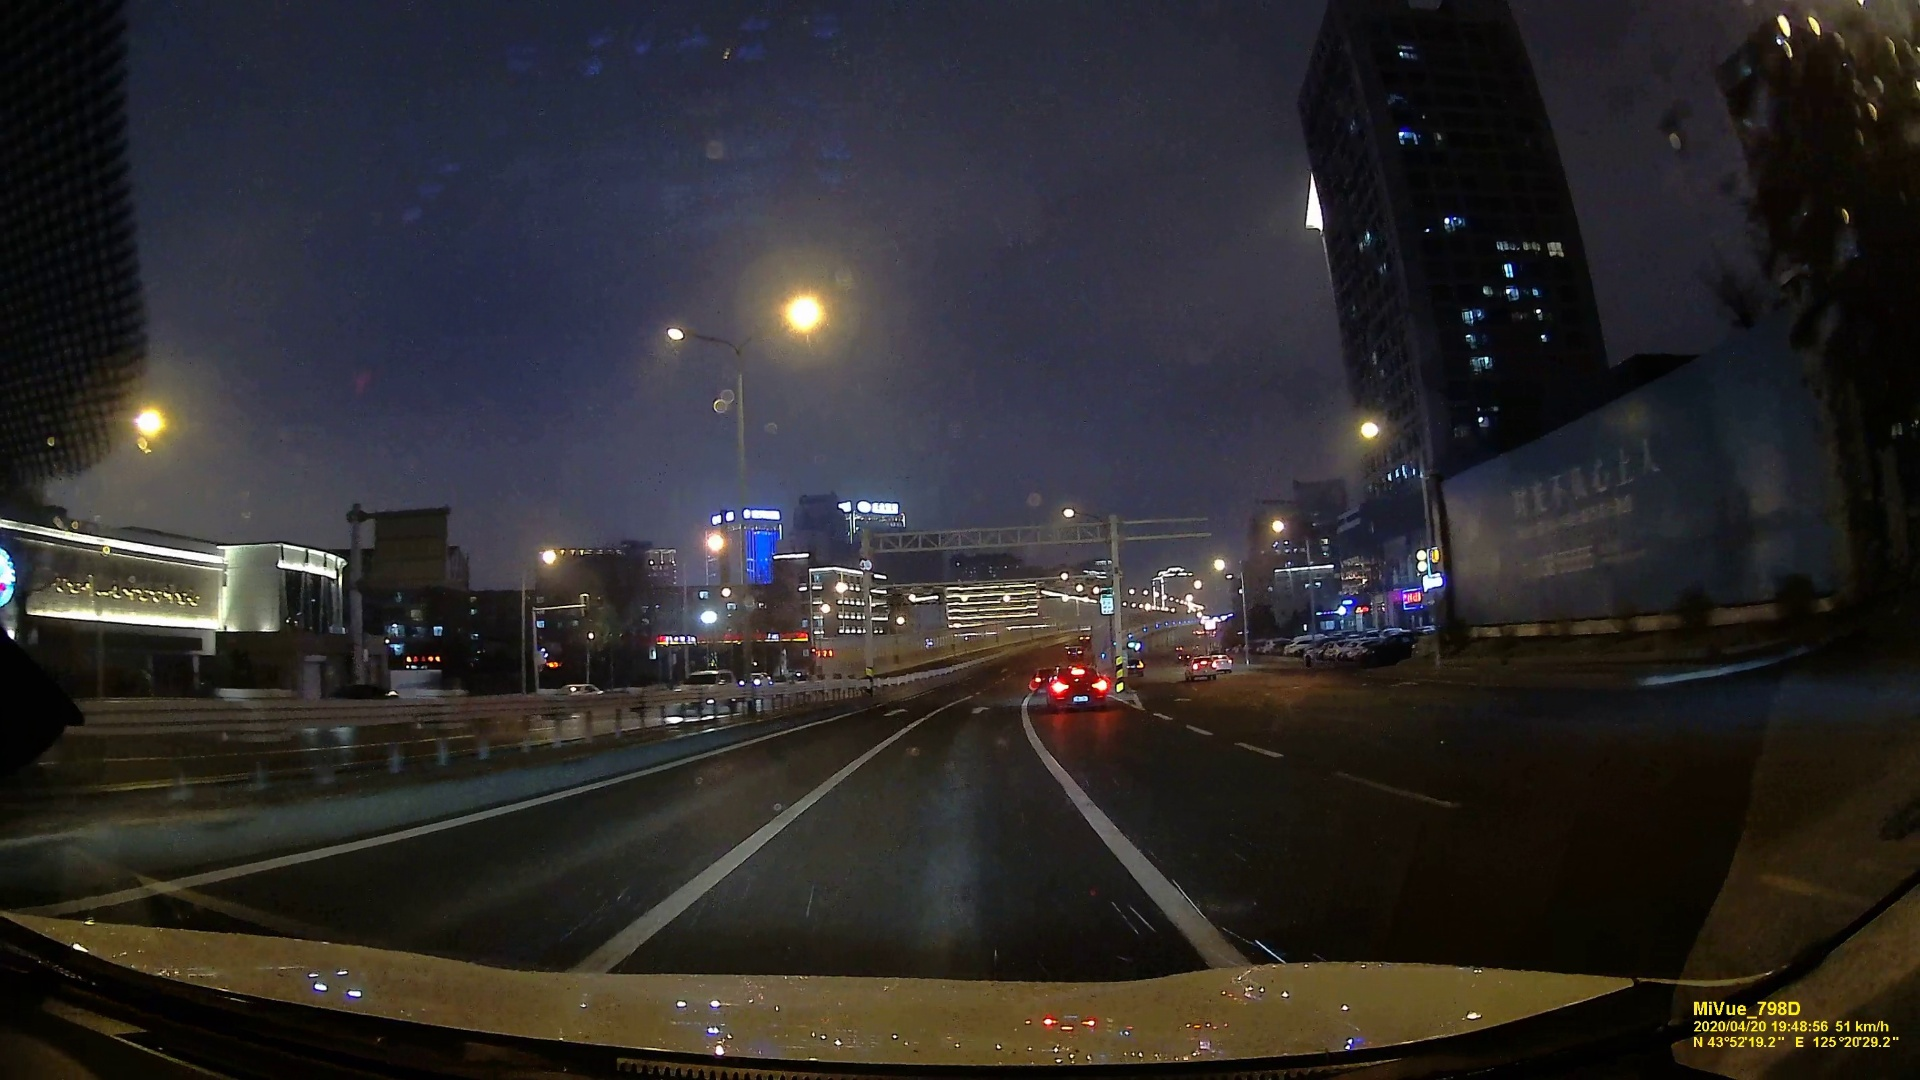traffic_sign: (1098, 587, 1116, 615)
vehicle: (1046, 663, 1106, 708), (673, 669, 737, 696), (1185, 655, 1218, 680), (553, 684, 603, 700)
